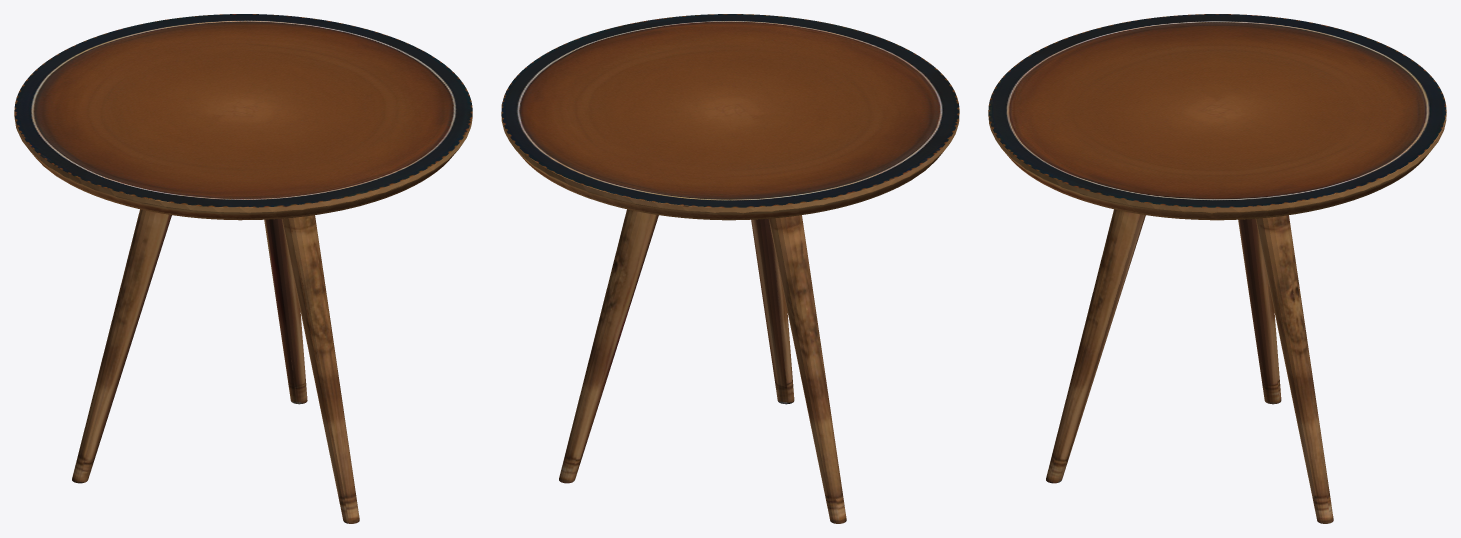
Rendered from edited_mesh.glb.
3 renders of one model, left to right at view 1: azimuth 30°, elevation 25°; view 2: azimuth 150°, elevation 25°; view 3: azimuth 270°, elevation 25°, orthographic.
Parts seen in each view (by area): view 1: normalized_model.obj; view 2: normalized_model.obj; view 3: normalized_model.obj.
Boxes of the visible parts, x1,y1,x2,y2 form: normalized_model.obj: (14, 14, 472, 523); normalized_model.obj: (501, 14, 959, 523); normalized_model.obj: (988, 14, 1446, 523).
Size of the model in its own units: 1.47 by 1.26 by 1.47.
Materials: 1 (1 with a texture image).
